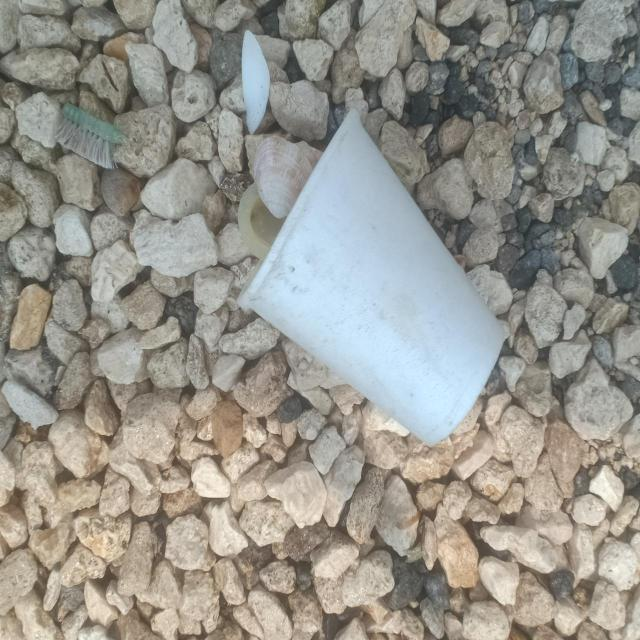styrofoam_waste: (237, 112, 511, 450)
